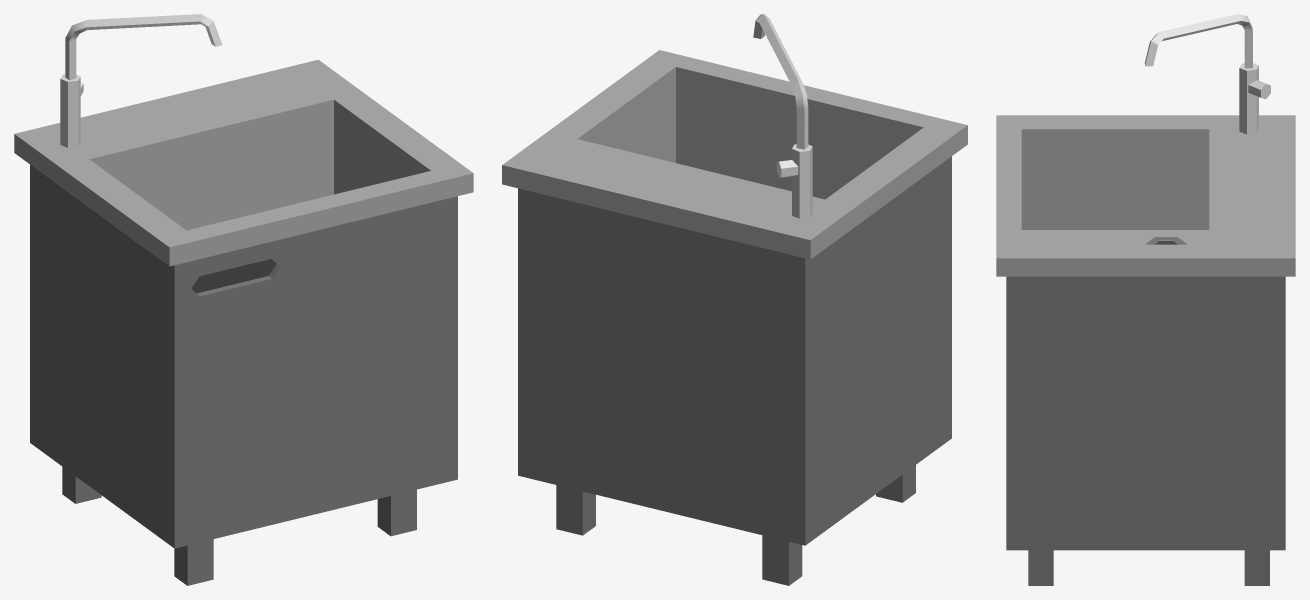
Rendered from Lavaplatos.fbx.
3 renders of one model, left to right at view 1: azimuth 30°, elevation 25°; view 2: azimuth 150°, elevation 25°; view 3: azimuth 270°, elevation 25°, orthographic. The views are drawn at different scales.
Parts seen in each view (by area): view 1: Lavaplatos; view 2: Lavaplatos; view 3: Lavaplatos.
Boxes of the visible parts, left/top/right/bottom form: Lavaplatos: left=14, top=14, right=473, bottom=585; Lavaplatos: left=502, top=14, right=967, bottom=585; Lavaplatos: left=996, top=14, right=1295, bottom=585.
Bounding box in the file's own units: 0.7578 × 1.2 × 0.6696.
